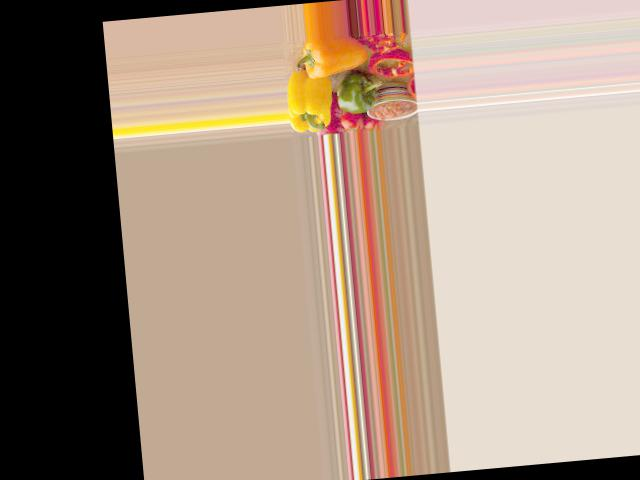bell_pepper: (286, 78, 336, 133)
